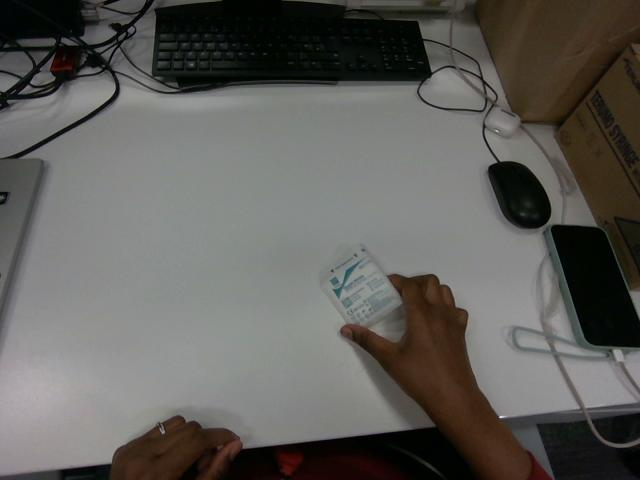gauze: (320, 244, 401, 326)
